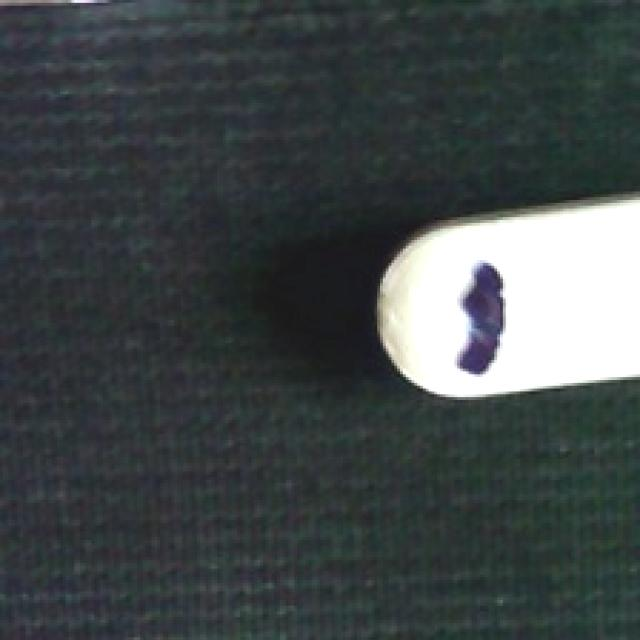defected: (365, 194, 640, 408)
